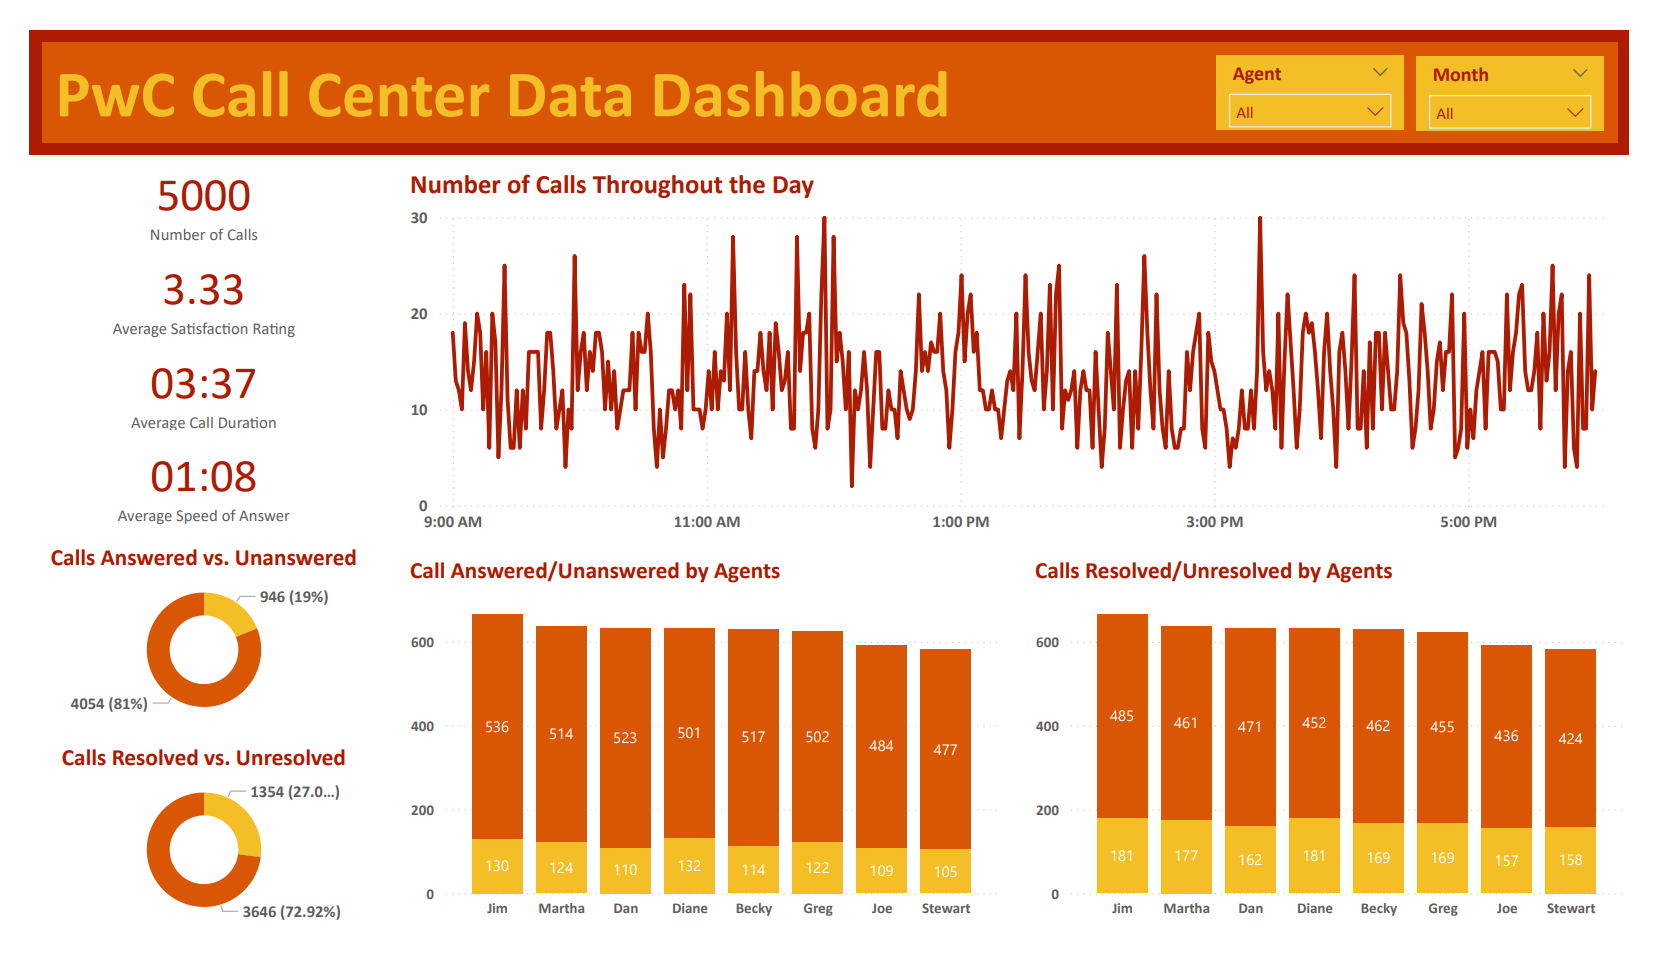

This screenshot's page, from the dashboard's own definition file:
{"tool":"powerbi","page":{"name":"Page 1","canvas":[1280,720],"ordinal":0},"visuals":[{"type":"card","fields":{"Values":["Clean2.Satisfaction rating"]},"box":[0,175,280,75],"z":0},{"type":"card","fields":{"Values":["Clean2.AverageAnswerSpeed"]},"box":[0,325,280,75],"z":1000},{"type":"card","fields":{"Values":["Clean2.AverageCallDuration"]},"box":[0,250,280,75],"z":2000},{"type":"card","fields":{"Values":["Clean2.Call Id"]},"box":[0,100,280,75],"z":3000},{"type":"lineChart","title":"Number of Calls Throughout the Day","fields":{"Category":["Clean2.Time"],"Y":["Clean2.Call Id"]},"box":[300,110,980.5,300],"z":4000},{"type":"donutChart","title":"Calls Answered vs. Unanswered","fields":{"Y":["Clean2.Answered (Y/N)"],"Series":["Clean2.Answered (Y/N)"]},"box":[0,410,280,150],"z":5000},{"type":"donutChart","title":"Calls Resolved vs. Unresolved","fields":{"Y":["Clean2.Resolved"],"Series":["Clean2.Resolved"]},"box":[0,570.5,280,150],"z":6000},{"type":"shape","box":[0,0,1280,100],"z":7000},{"type":"shape","box":[10.9,10,1260.3,80],"z":8000},{"type":"columnChart","title":"Call Answered/Unanswered by Agents","fields":{"Category":["Clean2.Agent"],"Y":["Clean2.Answered (Y/N)"],"Series":["Clean2.Answered (Y/N)"]},"box":[300,420,480,300.3],"z":9000},{"type":"columnChart","title":"Calls Resolved/Unresolved by Agents","fields":{"Category":["Clean2.Agent"],"Series":["Clean2.Resolved"],"Y":["Clean2.Resolved"]},"box":[800,420,480,300.3],"z":10000},{"type":"slicer","fields":{"Values":["Clean2.Date.Variation.Date Hierarchy.Month"]},"box":[1110,20.5,150,60.3],"z":11000},{"type":"slicer","fields":{"Values":["Clean2.Agent"]},"box":[950,20,150,60],"z":12000}]}

Visuals, with their boxes on the page's 1280x720 design canvas (x1, y1, x2, y2). These are canvas units, not pixel positions in the 1659x960 screenshot, which may show the page scaled, cropped or inside an application window:
card - Clean2.Satisfaction rating: 0:175:280:250
card - Clean2.AverageAnswerSpeed: 0:325:280:400
card - Clean2.AverageCallDuration: 0:250:280:325
card - Clean2.Call Id: 0:100:280:175
"Number of Calls Throughout the Day" lineChart: 300:110:1280:410
"Calls Answered vs. Unanswered" donutChart: 0:410:280:560
"Calls Resolved vs. Unresolved" donutChart: 0:570:280:720
shape: 0:0:1280:100
shape: 11:10:1271:90
"Call Answered/Unanswered by Agents" columnChart: 300:420:780:720
"Calls Resolved/Unresolved by Agents" columnChart: 800:420:1280:720
slicer - Clean2.Date.Variation.Date Hierarchy.Month: 1110:20:1260:81
slicer - Clean2.Agent: 950:20:1100:80
